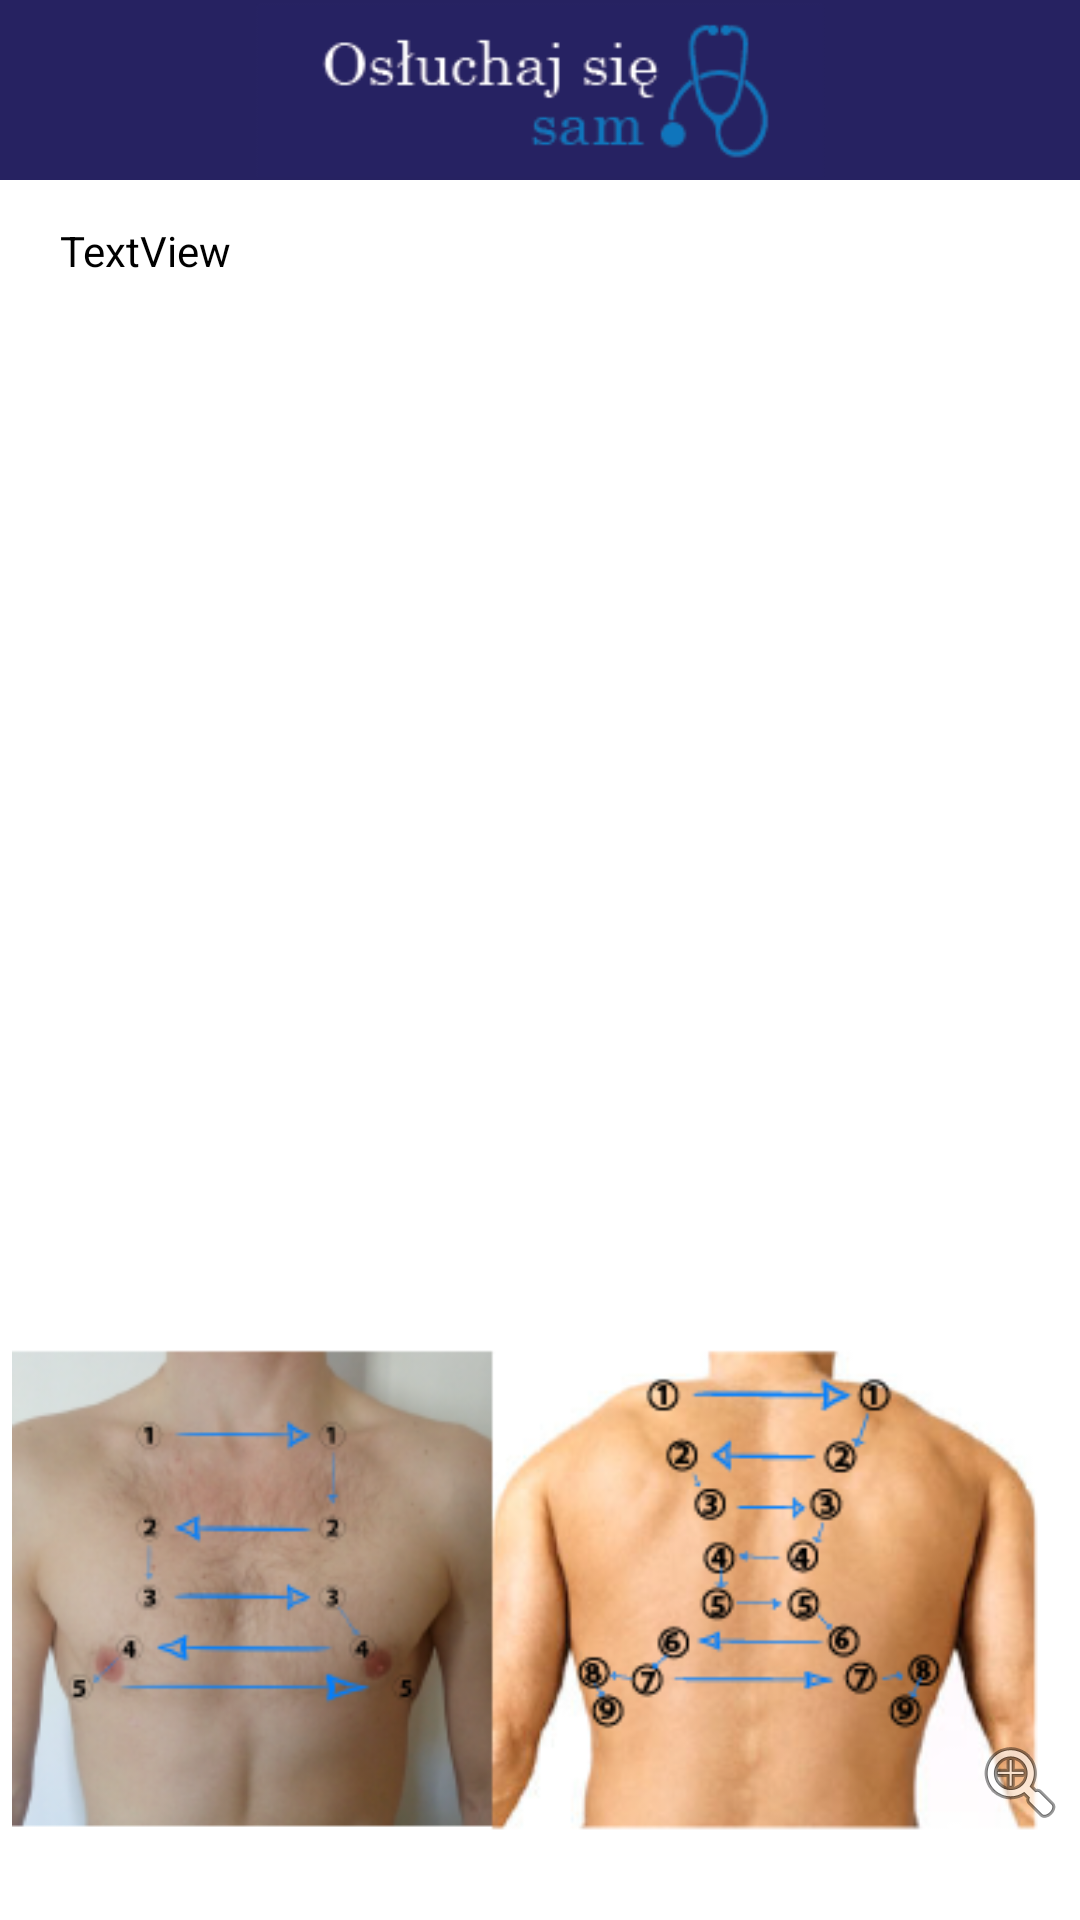

Where to tap for icons on this 1080 x 1920 app screen, as (x=x, y=y):
zoom: (x=1019, y=1781)
